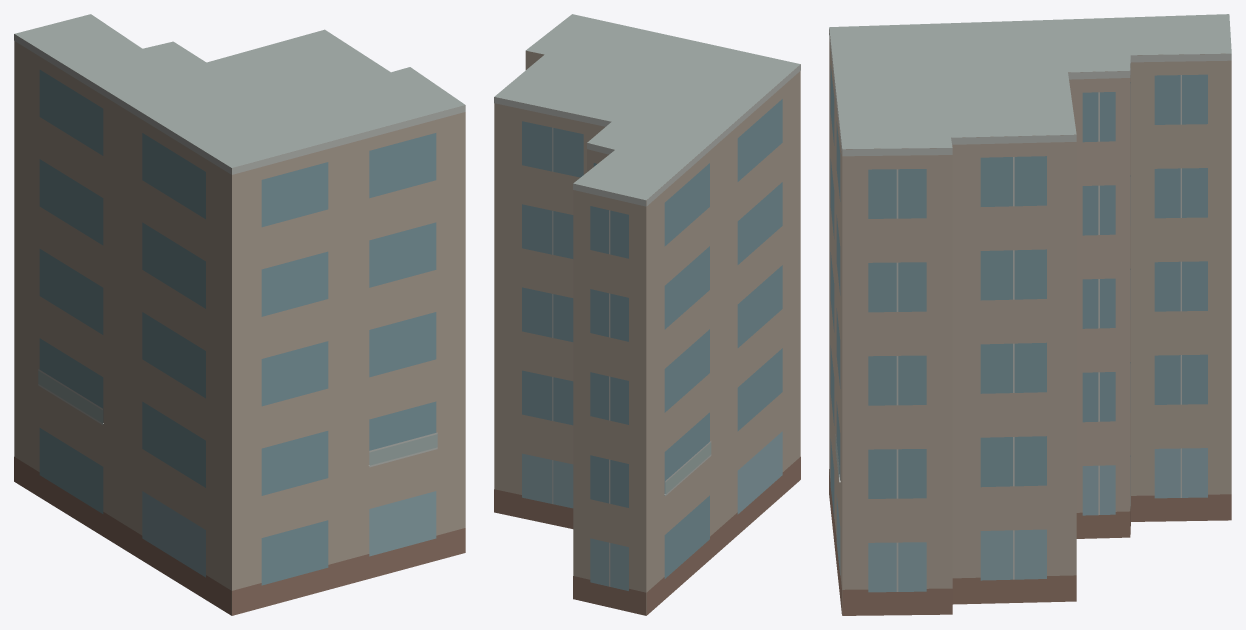
File: survey-upis-32474093.glb
3 renders of one model, left to right at view 1: azimuth 30°, elevation 25°; view 2: azimuth 150°, elevation 25°; view 3: azimuth 270°, elevation 25°, orthographic. The views are drawn at different scales.
Parts seen in each view (by area): view 1: survey-upis-32474093.tmp; view 2: survey-upis-32474093.tmp; view 3: survey-upis-32474093.tmp.
Boxes of the visible parts, x1=… form: survey-upis-32474093.tmp: x1=14, y1=14, x2=465, y2=615; survey-upis-32474093.tmp: x1=494, y1=14, x2=800, y2=615; survey-upis-32474093.tmp: x1=829, y1=14, x2=1231, y2=615.
Bounding box in the file's own units: 9.92 × 15.95 × 12.48.
